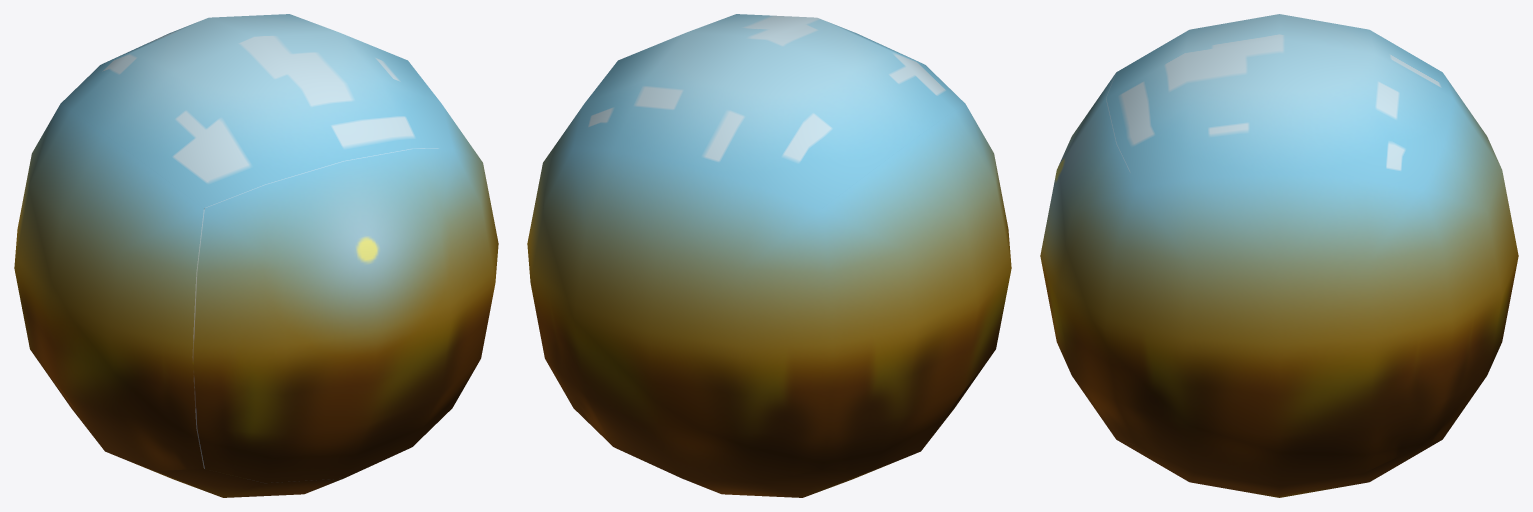
The model's file is skybox.obj.
The picture shows the model from 3 angles, left to right: view 1: azimuth 30°, elevation 25°; view 2: azimuth 150°, elevation 25°; view 3: azimuth 270°, elevation 25°; orthographic projection.
Visible parts, largest first — view 1: Cube_Cube.001; view 2: Cube_Cube.001; view 3: Cube_Cube.001.
Boxes of the visible parts, x1,y1,x2,y2 form: Cube_Cube.001: (14,14,498,497); Cube_Cube.001: (527,14,1011,497); Cube_Cube.001: (1040,14,1518,497).
Bounding box in the file's own units: 1.68 × 1.68 × 1.68.
Materials: 1 (1 with a texture image).
